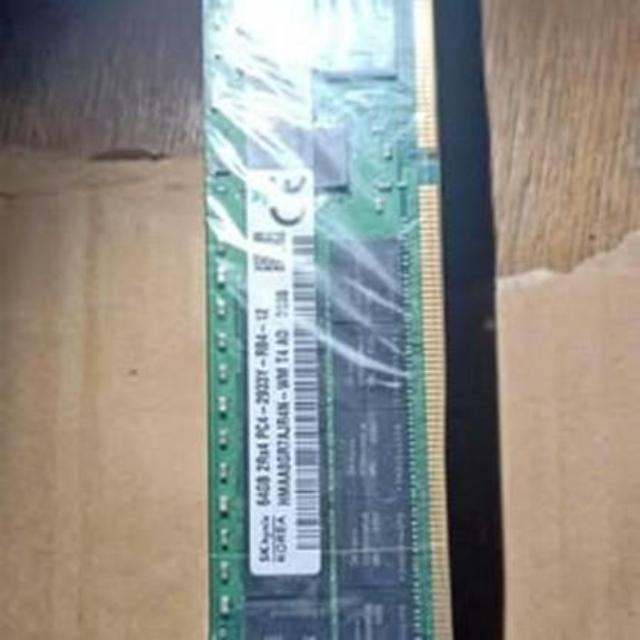RAM: (198, 0, 453, 640)
